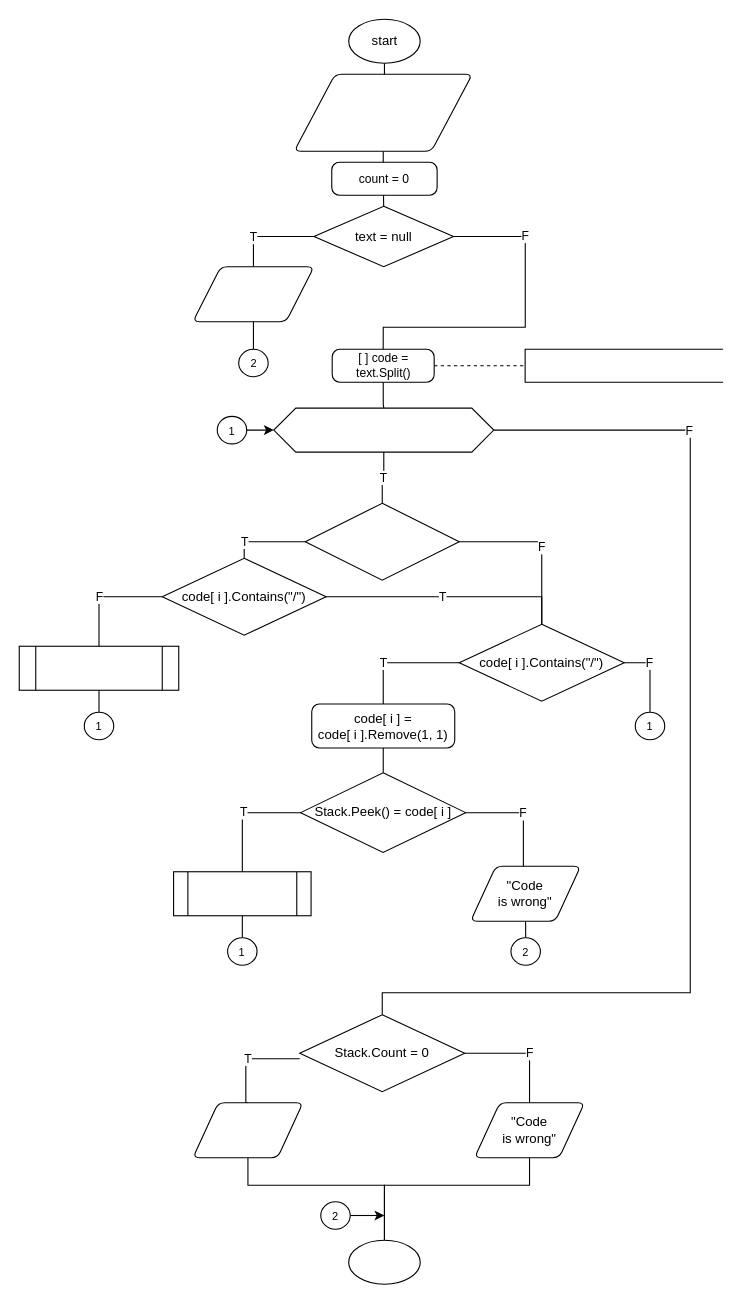
The diagram is 748 pixels wide and 1304 high, and some of its shapes have lost their labels. Here are the shapes that lost their labels. From the top down, the centre of each, then its label:
pixel 382 112: data Є string StackOnSLList Stack Node top text Є string
pixel 253 294: "Text is empty"
pixel 623 365: Text is splitted into array at spaces
pixel 383 429: i = 0; i < code.Length; i++
pixel 381 541: code[ i ].Contains("<")
pixel 98 667: Stack.Push(code[ i ])
pixel 241 893: Stack.Pop()
pixel 247 1130: "Code is right"
pixel 384 1261: end
